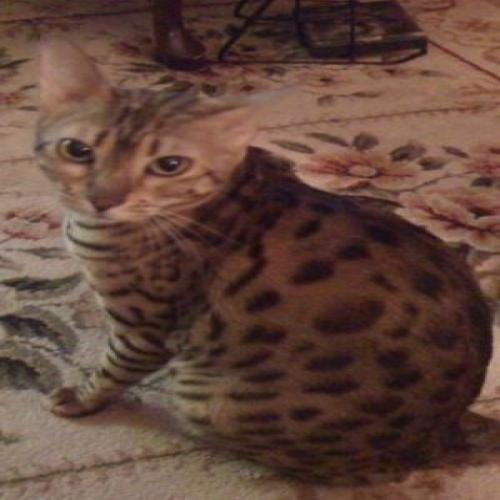bengal: (8, 28, 293, 241)
